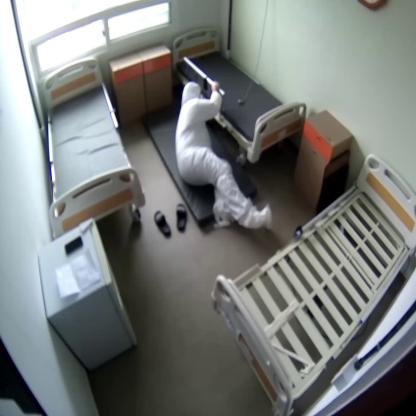Person: (174, 81, 270, 229)
